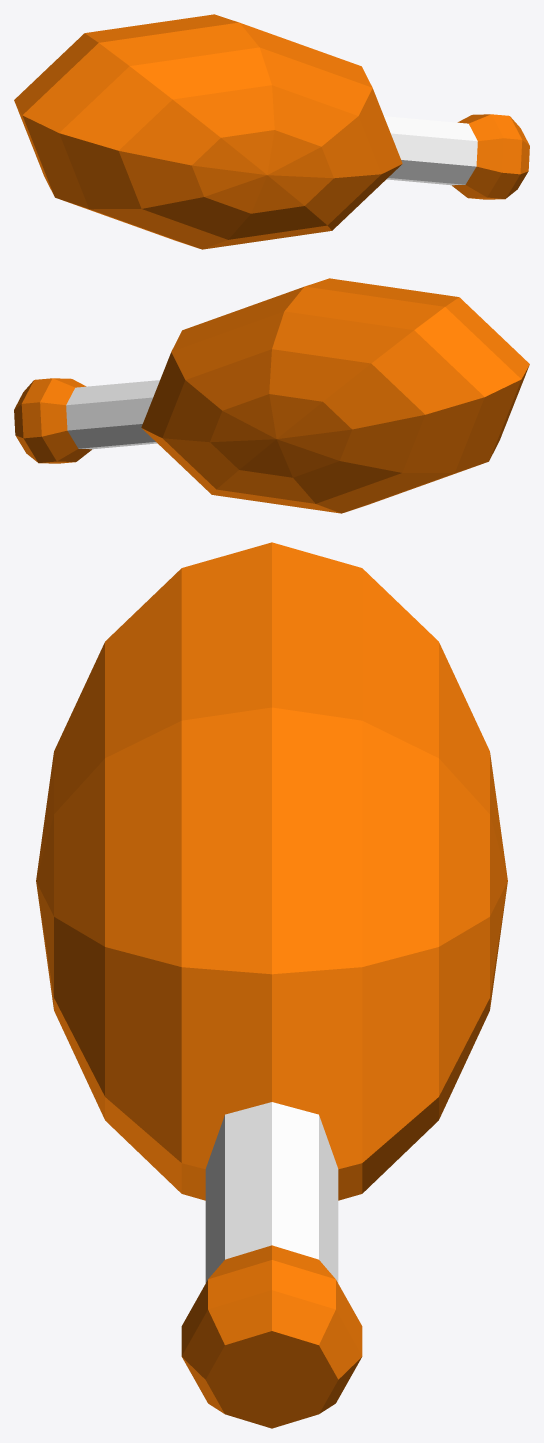
File: chicken_meat.glb
The picture shows the model from 3 angles, top to bottom: view 1: azimuth 30°, elevation 25°; view 2: azimuth 150°, elevation 25°; view 3: azimuth 270°, elevation 25°; orthographic projection. The views are drawn at different scales.
Visible parts, largest first — view 1: mChicken leg; view 2: mChicken leg; view 3: mChicken leg.
Boxes of the visible parts, x1,y1,x2,y2 form: mChicken leg: (14, 14, 529, 249); mChicken leg: (14, 278, 529, 513); mChicken leg: (36, 542, 507, 1428).
Size of the model in its own units: 0.4589 by 0.2212 by 0.1882.
1 material, 1 textured.
